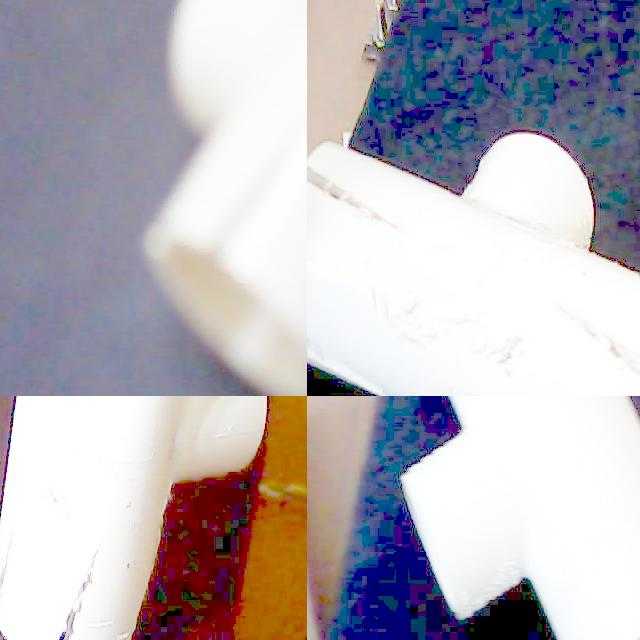Defective: (6, 468, 150, 640), (514, 273, 640, 396), (307, 156, 450, 264), (191, 163, 292, 310), (307, 296, 450, 396)
T Joint: (307, 135, 640, 396), (400, 396, 640, 640)
